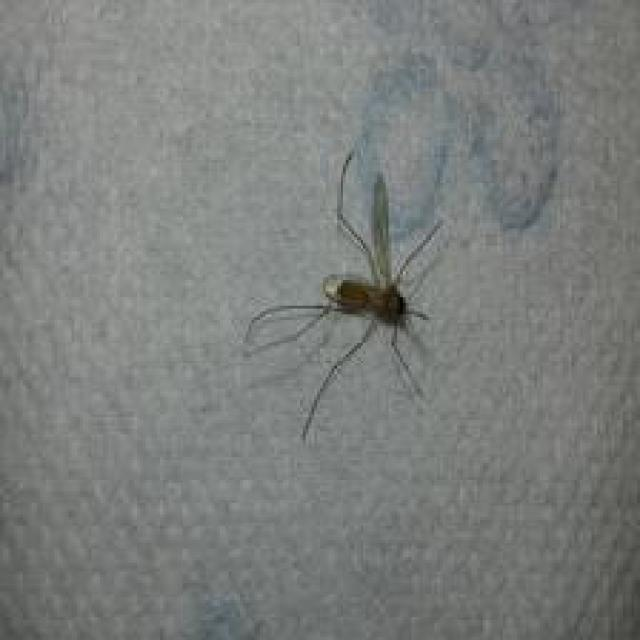Culex: (242, 144, 447, 444)
